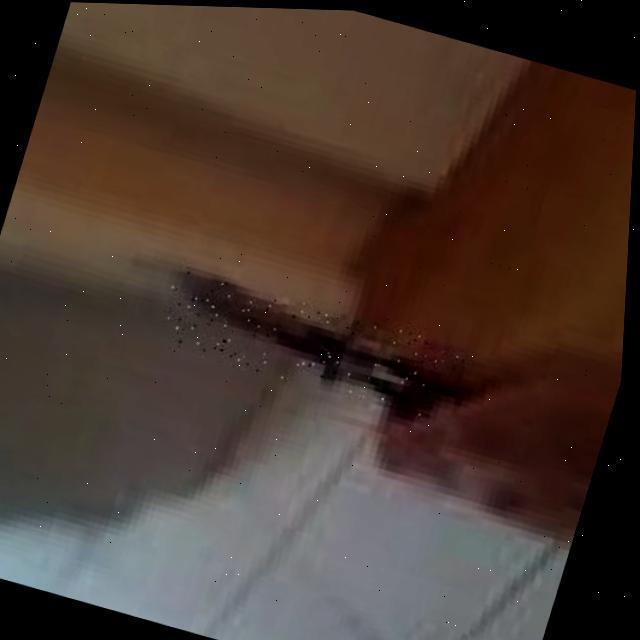knife: (156, 264, 477, 422)
